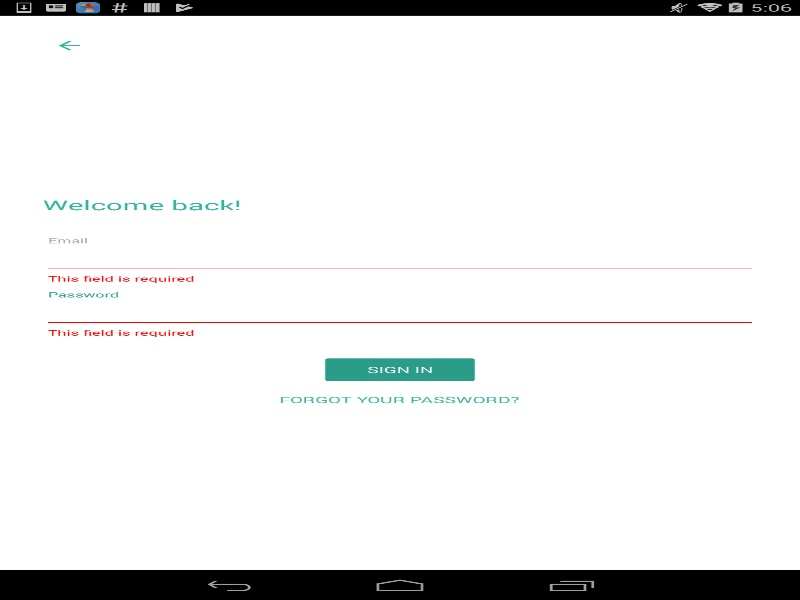Button: (263, 384, 536, 414), (320, 354, 480, 384), (32, 25, 106, 65)
Input: (42, 243, 757, 273), (42, 297, 757, 327)
